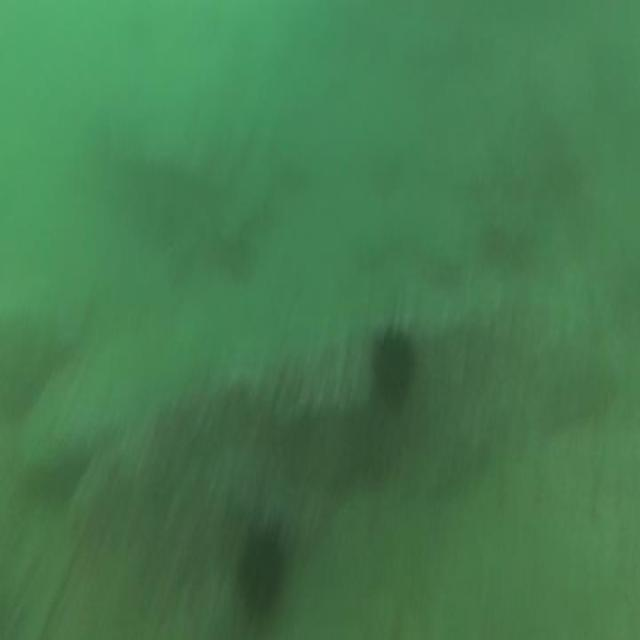echinus: (232, 521, 292, 626), (369, 319, 419, 414)
